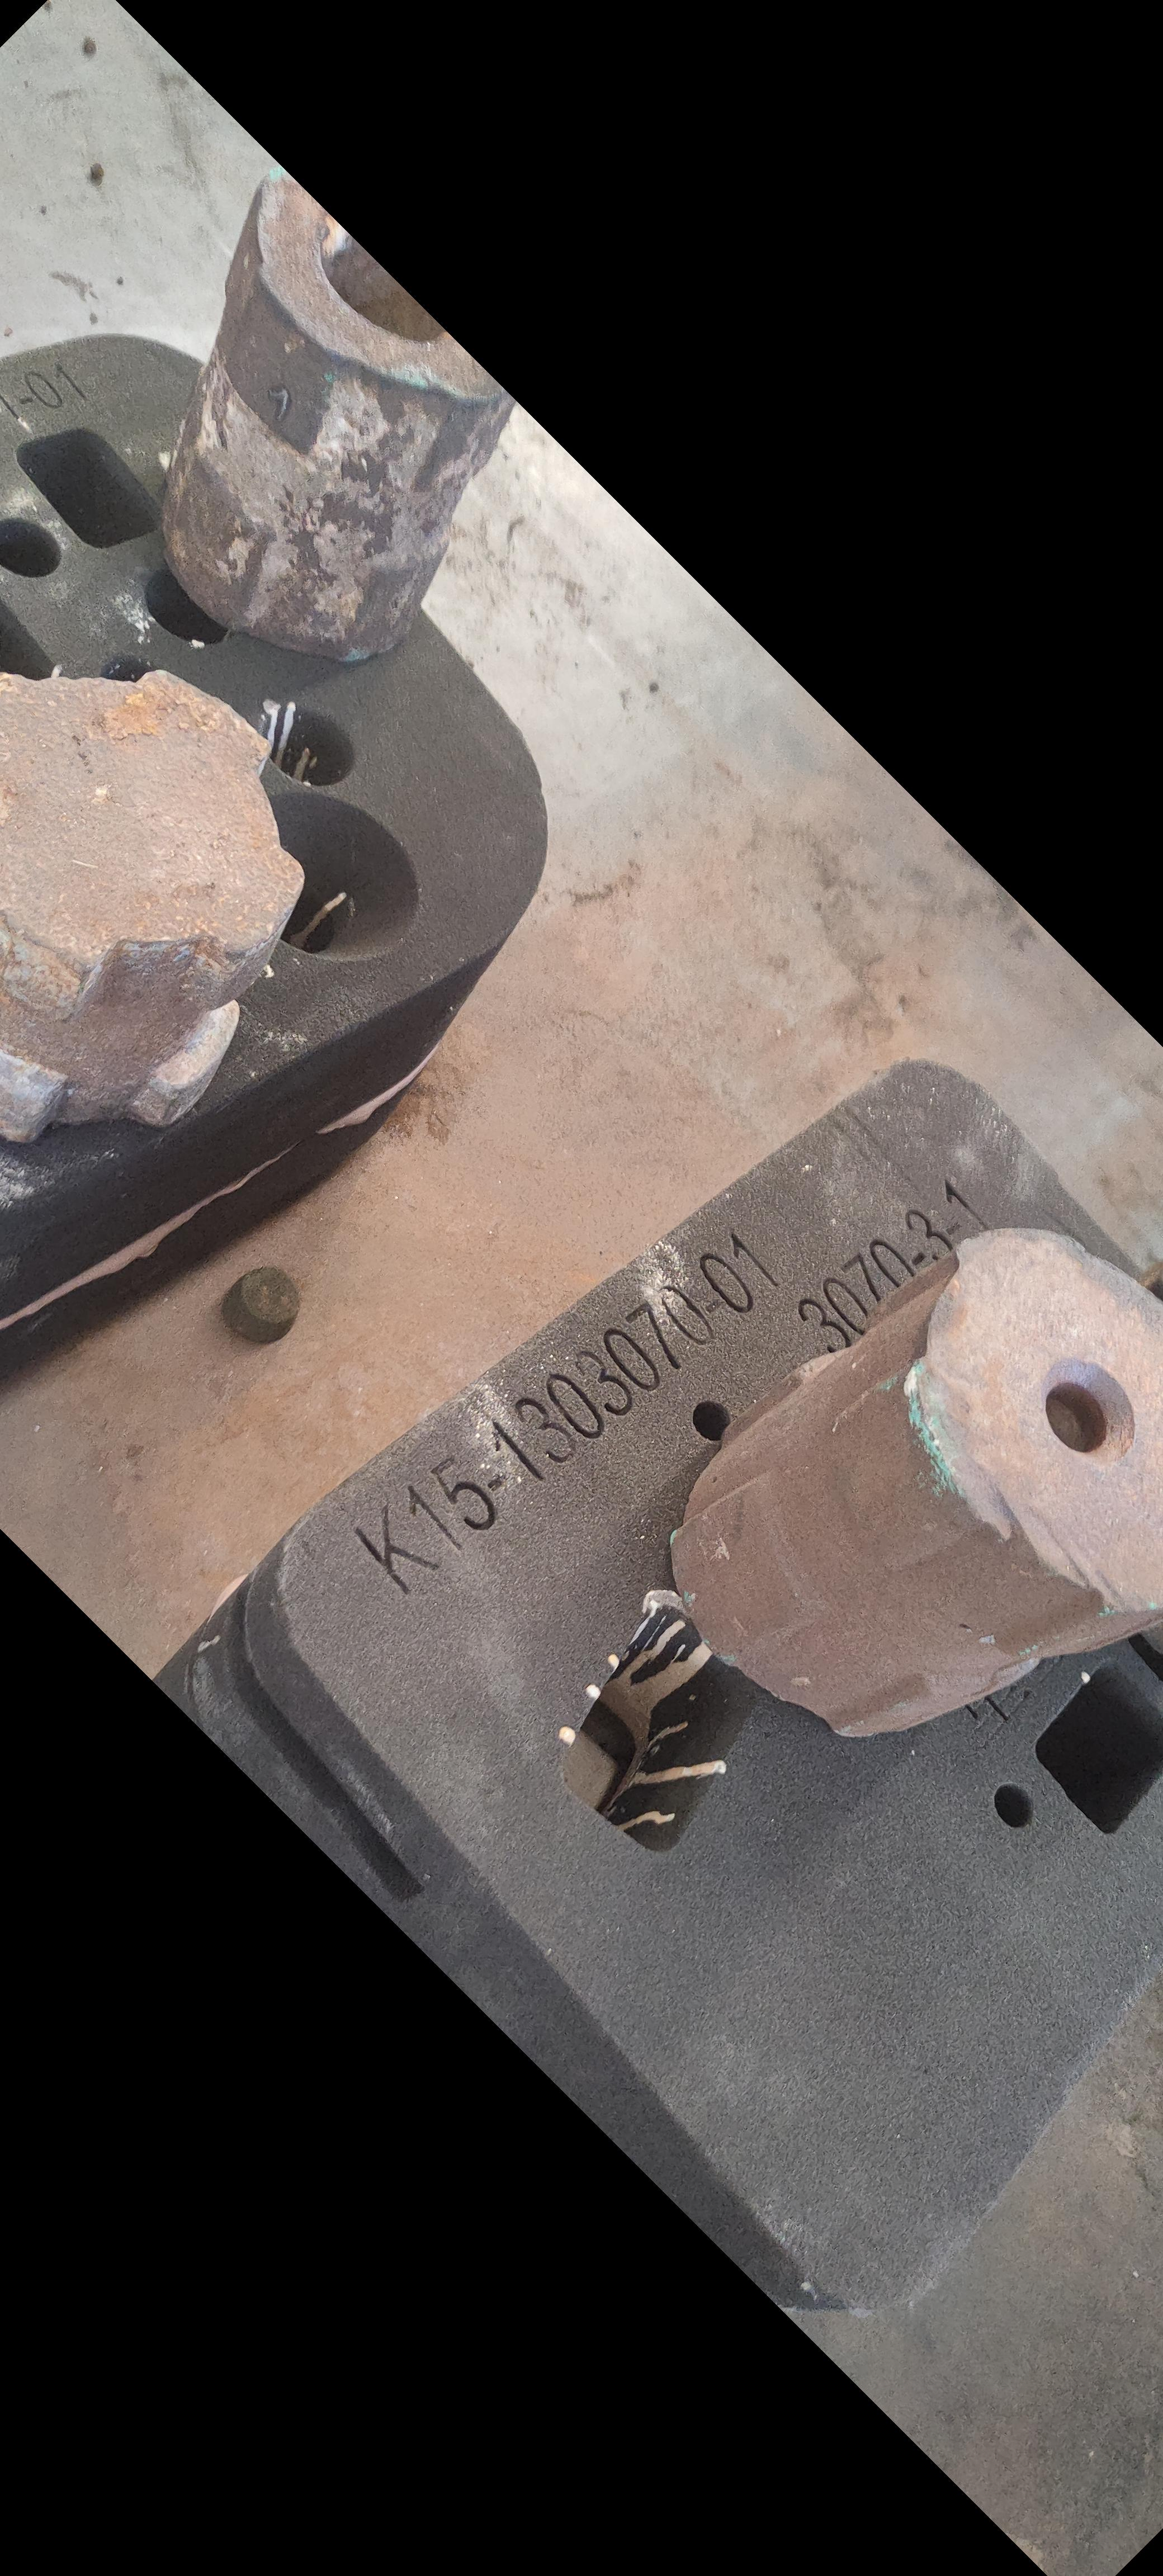pouring hole: (233, 792, 421, 961)
